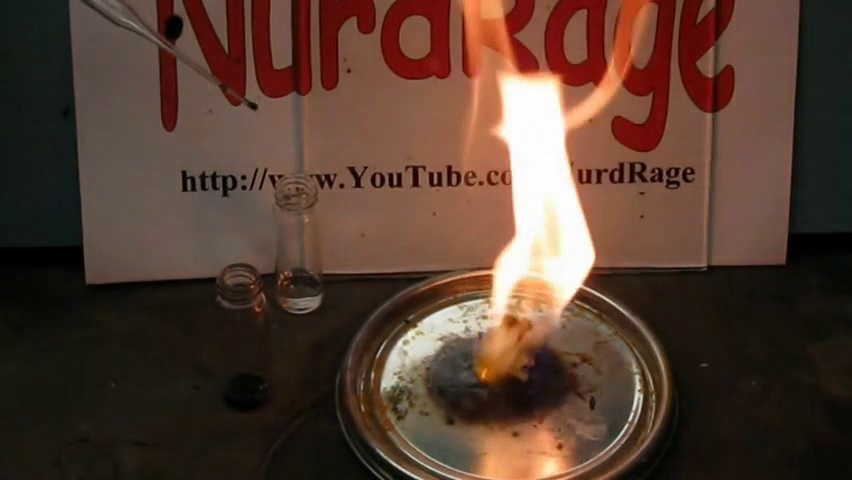fire: (460, 54, 601, 378)
